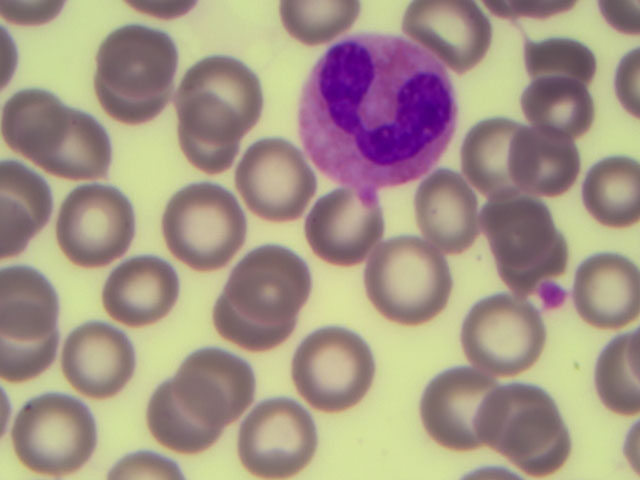Platelets: (536, 279, 568, 310)
RBC: (94, 22, 182, 95), (83, 66, 171, 139), (4, 84, 92, 157), (30, 118, 118, 191), (54, 186, 142, 259), (93, 257, 181, 330), (61, 322, 149, 395), (12, 398, 100, 471), (128, 379, 216, 452), (176, 349, 264, 422), (201, 290, 289, 363), (229, 244, 317, 317), (157, 186, 245, 259), (232, 143, 320, 216), (171, 97, 259, 170), (189, 55, 277, 128), (368, 237, 456, 310), (305, 193, 393, 266), (406, 174, 494, 247), (452, 114, 540, 187), (497, 122, 585, 195), (520, 67, 608, 140), (525, 28, 613, 101), (404, 1, 492, 74), (570, 254, 640, 325), (570, 157, 640, 228), (467, 302, 537, 373), (485, 195, 555, 266), (430, 368, 500, 439), (492, 380, 562, 451), (302, 333, 372, 404), (244, 405, 314, 476), (3, 263, 73, 334), (3, 315, 73, 386)
WBC: (293, 29, 459, 194)
